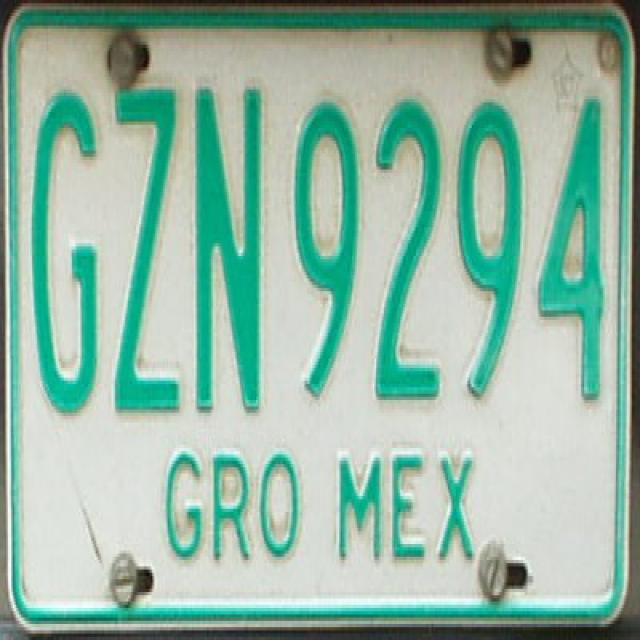placa: (18, 73, 622, 428)
